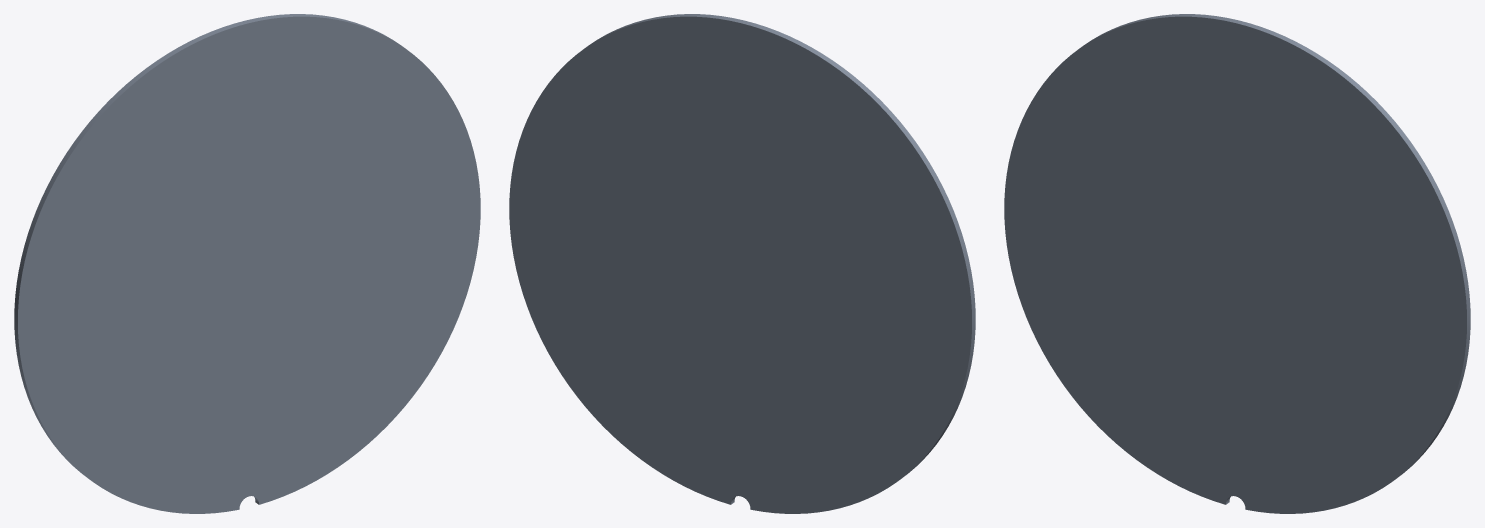
The model's file is 06_06_finished_blank_wafer.glb.
3 renders of one model, left to right at view 1: azimuth 30°, elevation 25°; view 2: azimuth 150°, elevation 25°; view 3: azimuth 330°, elevation 25°, orthographic.
Parts seen in each view (by area): view 1: Finished blank wafer; view 2: Finished blank wafer; view 3: Finished blank wafer.
Boxes of the visible parts, x1=… form: Finished blank wafer: x1=14, y1=14, x2=480, y2=513; Finished blank wafer: x1=509, y1=14, x2=975, y2=513; Finished blank wafer: x1=1004, y1=14, x2=1470, y2=513.
Size of the model in its own units: 2.6 by 2.6 by 0.035.
